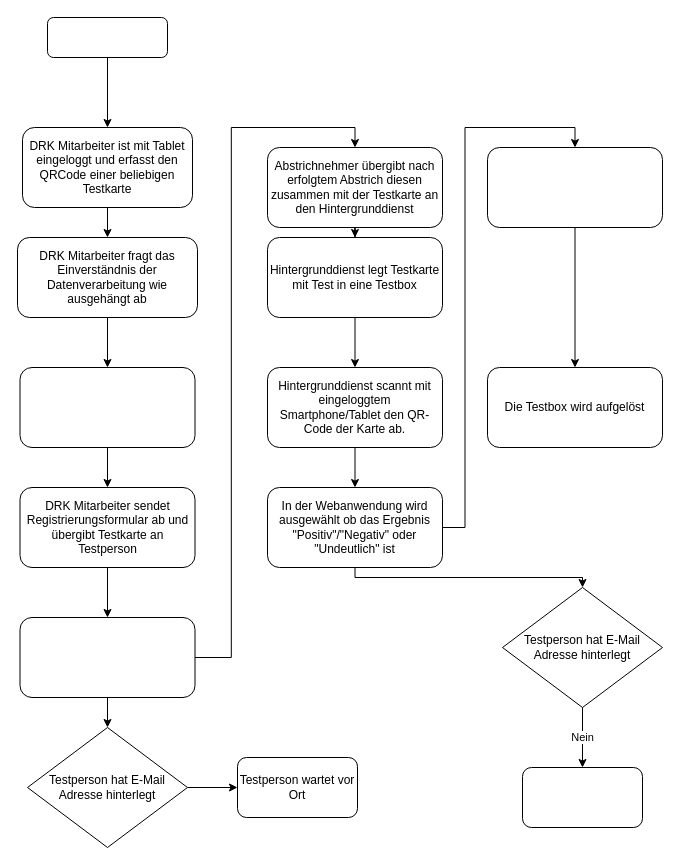
The diagram is 680 pixels wide and 865 high, and some of its shapes have lost their labels. The shapes that lost their labels are listed below. From the top down, each one's centre as x and y in pixels, then its label:
At point (107, 37): "Person kommt in das Testzentrum".
At point (574, 187): "Die Auswahl wird bestätigt".
At point (107, 407): "DRK Mitarbeiter fragt Personalien ab und trägt diese ein".
At point (107, 657): "Testperson übergibt Testkarte and Abstrichnehmer".
At point (582, 797): "Testergebnis wird mündlich übermittel".
